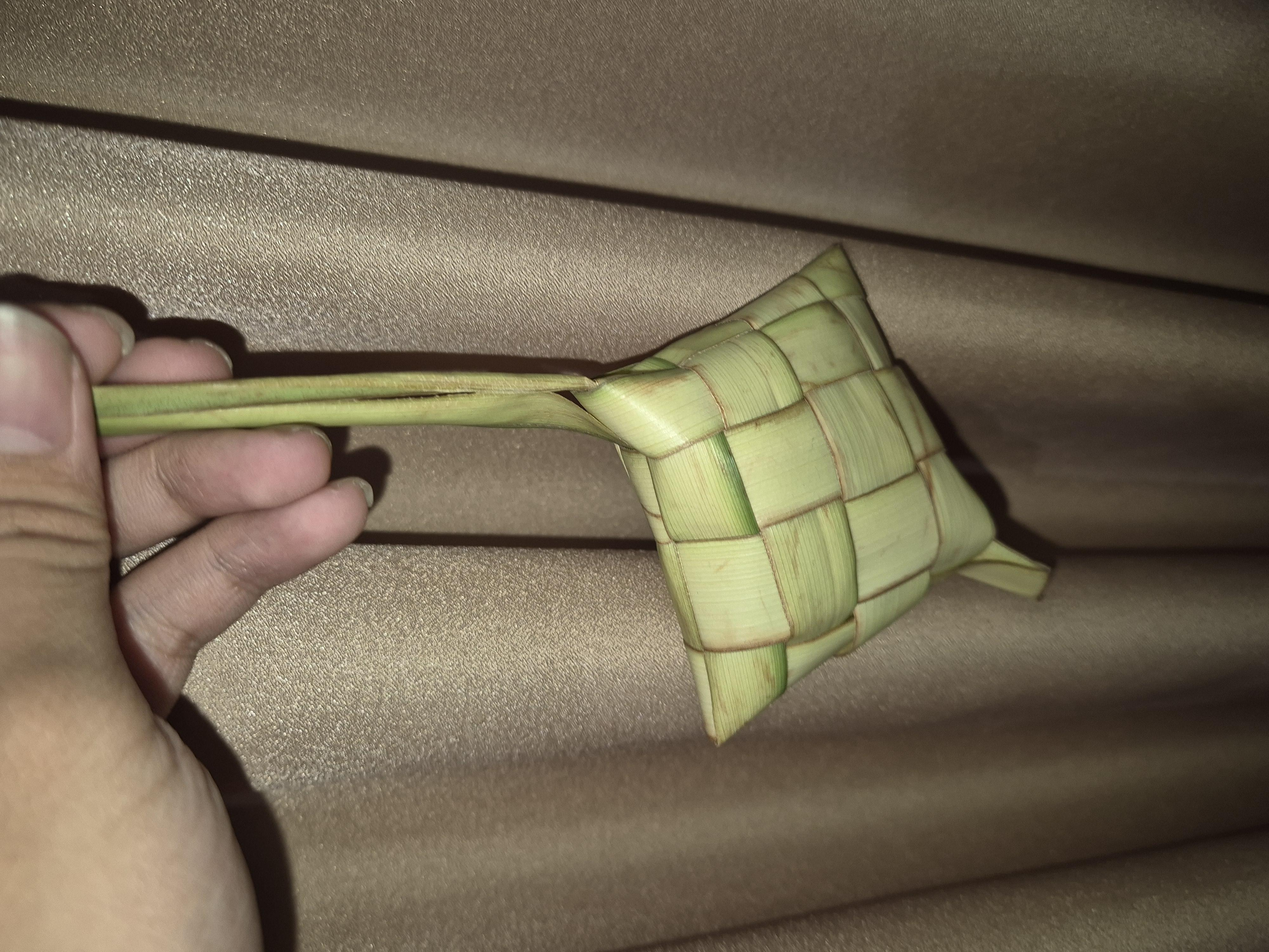Tipat Nasi: (281, 433, 938, 746)
